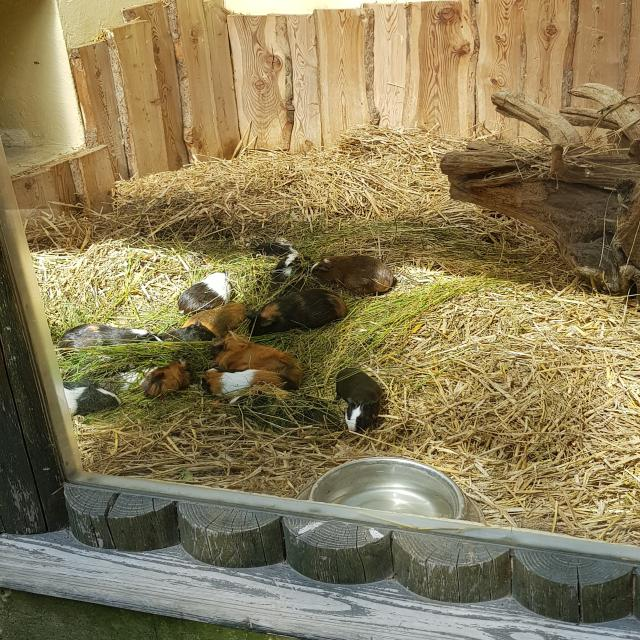guinea pig: (247, 287, 347, 336), (205, 332, 308, 373), (307, 251, 395, 294), (332, 364, 382, 434), (162, 296, 256, 327), (54, 322, 162, 345), (63, 378, 119, 419), (202, 367, 295, 391), (180, 272, 236, 310), (146, 358, 190, 396)
